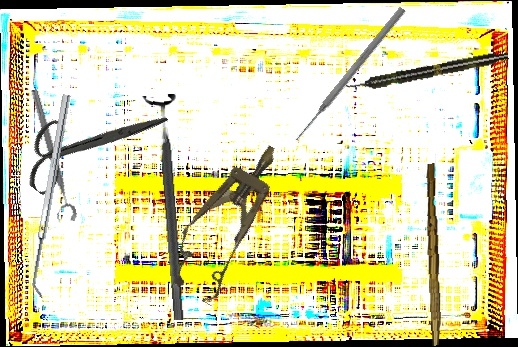Fixation Ring: (140, 93, 198, 322), (20, 87, 79, 226)
Handpiece: (344, 48, 510, 95)
Iris Scissors: (9, 61, 170, 229)
Pusher: (292, 5, 407, 144)
Scalpel Handle: (422, 163, 446, 346)
Spatula Surgical: (27, 94, 79, 298)
Speculum: (157, 130, 301, 308)
